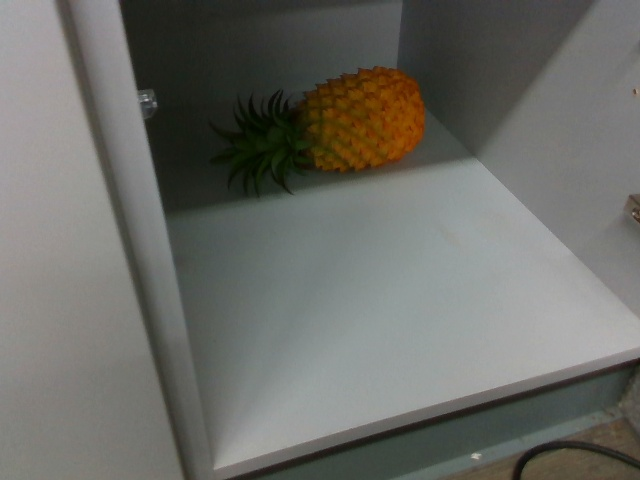pineapple: (227, 62, 430, 188)
